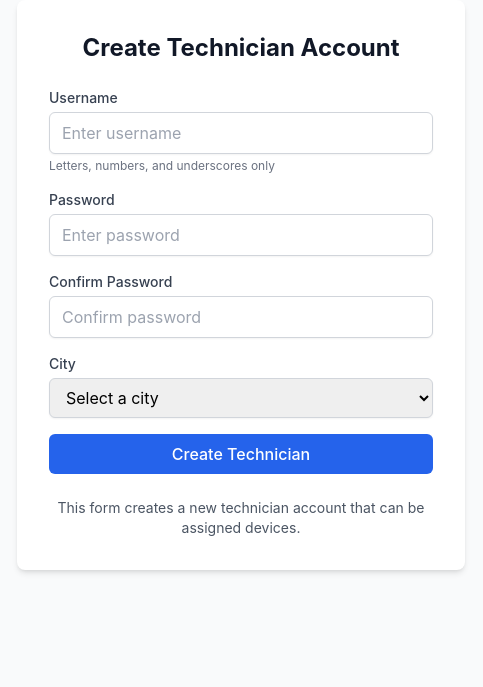
Test: TechnicianForm Integration Tests › validates form fields before submission
The image size is (483, 687).
Try to submit empty form
Step 1. Click the button "Create Technician" → (241, 454), box [49,434,433,474]
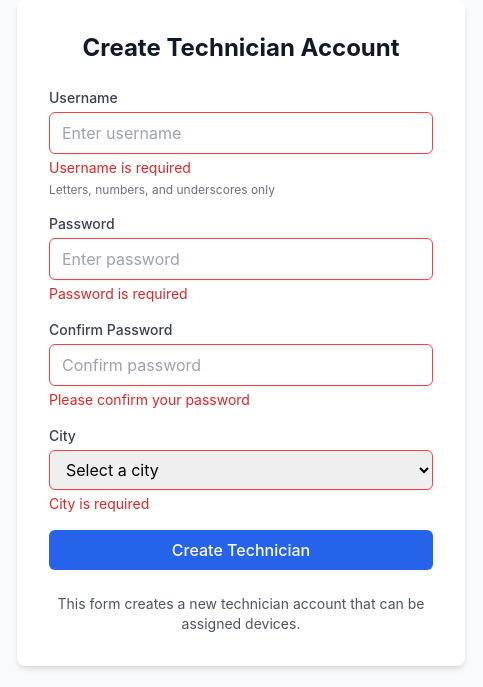
expect the text "Username is required" is shown: met, box [49,159,191,176]
expect the text "Password is required" is shown: met, box [49,285,188,302]
expect the text "Please confirm your password" is shown: met, box [49,391,250,408]
